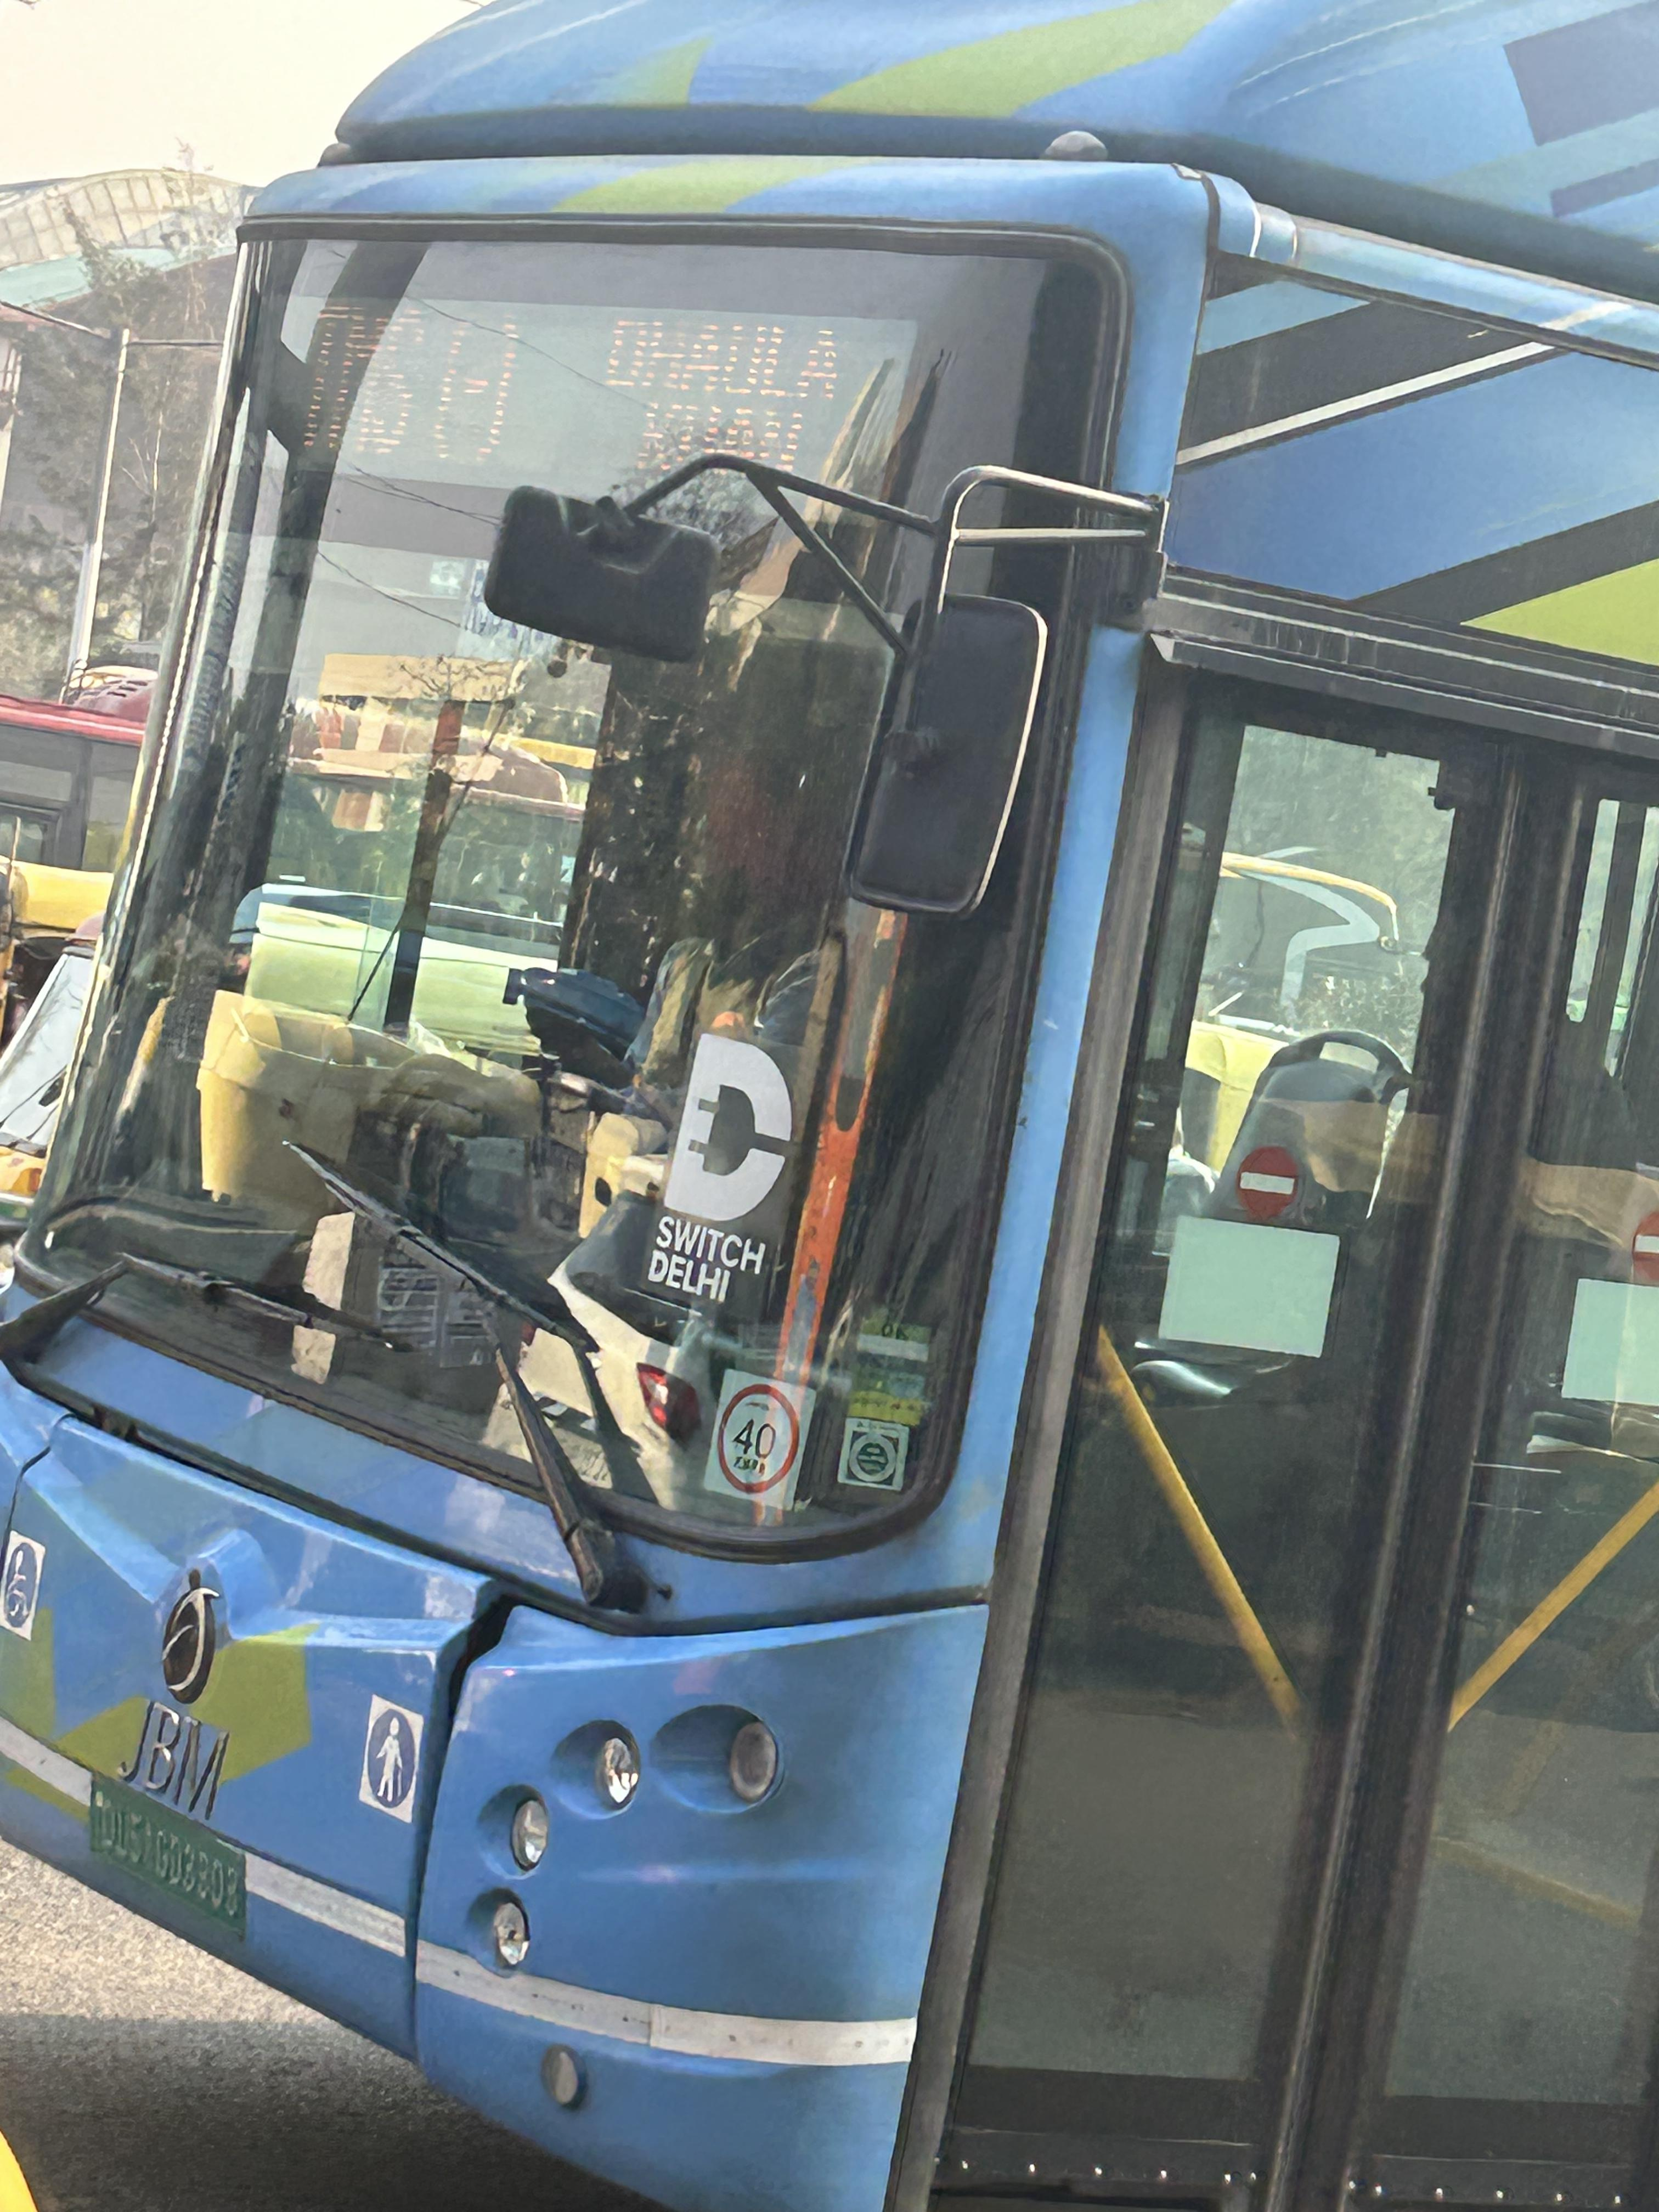Bus: (0, 55, 1223, 2124)
Display Board: (208, 165, 1108, 587)
License Plate: (66, 1745, 302, 1948)
